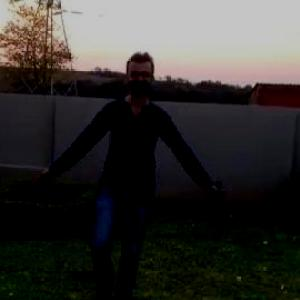land: (13, 51, 238, 299)
